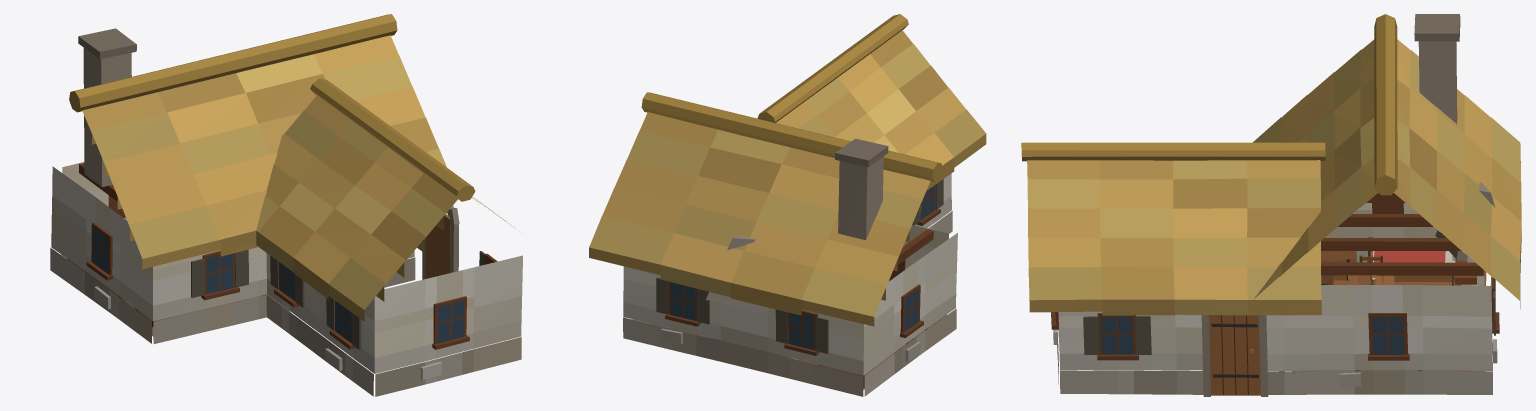
Rendered from farmhouse.glb.
3 renders of one model, left to right at view 1: azimuth 30°, elevation 25°; view 2: azimuth 150°, elevation 25°; view 3: azimuth 270°, elevation 25°, orthographic. The views are drawn at different scales.
Parts seen in each view (by area): view 1: buildings/farmhouse; view 2: buildings/farmhouse; view 3: buildings/farmhouse.
Part boxes in pixels (x1,y1,x2,y2): buildings/farmhouse: [50, 14, 522, 396]; buildings/farmhouse: [589, 14, 986, 396]; buildings/farmhouse: [1021, 14, 1521, 396].
Bounding box in the file's own units: 7.28 × 5.35 × 9.57.
